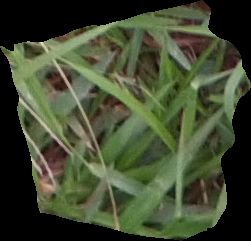grass: (1, 1, 249, 240)
